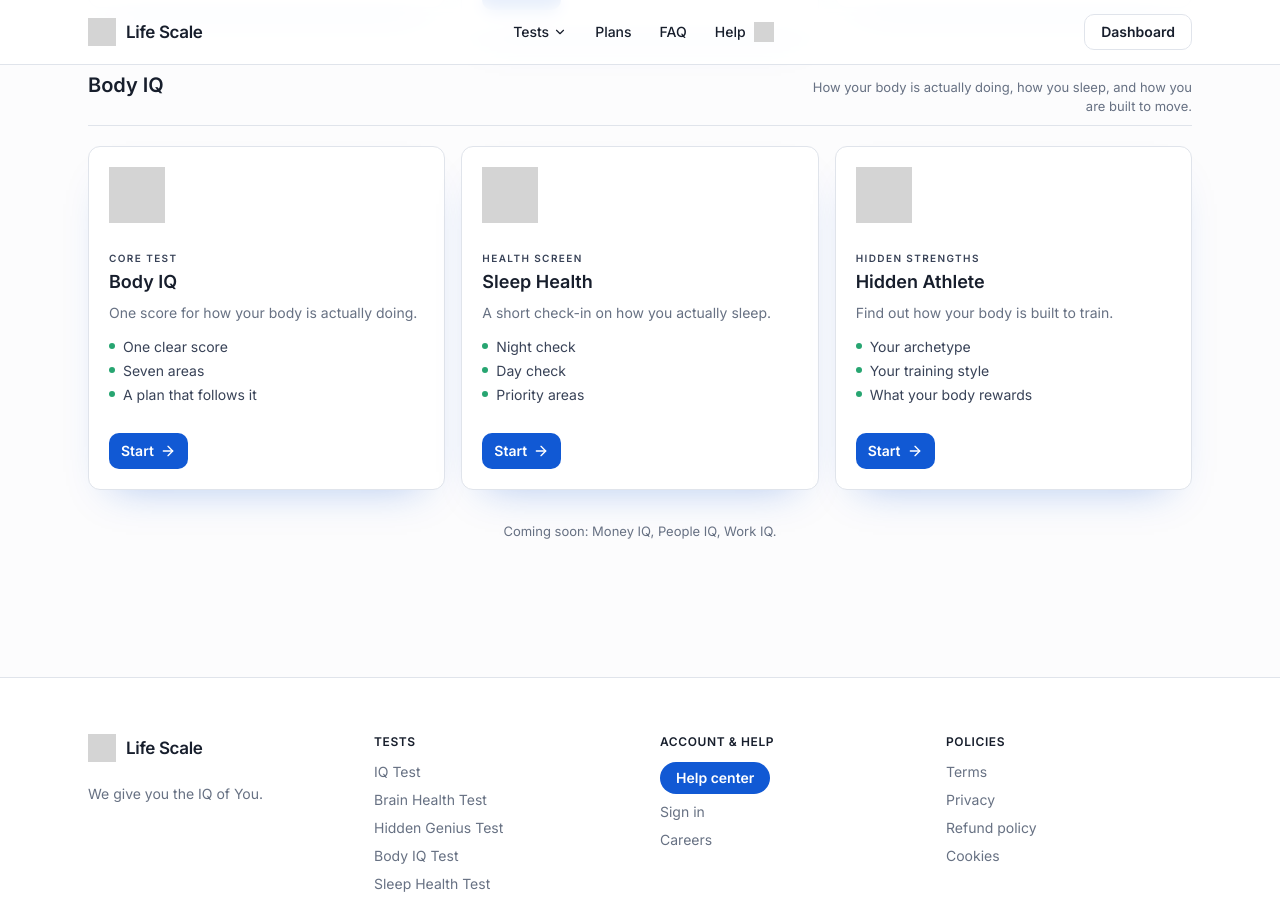
purchase paths › sends a signed-in homepage buyer directly into the selected scale purchase path
The width and height of the screenshot is (1280, 900).
(page scrolled)
Expected: the element "Body IQ" is shown, [88, 146, 445, 490]
Click the button "Start" below "A plan that follows it": (148, 451) [109, 433, 188, 469]
(page scrolled)
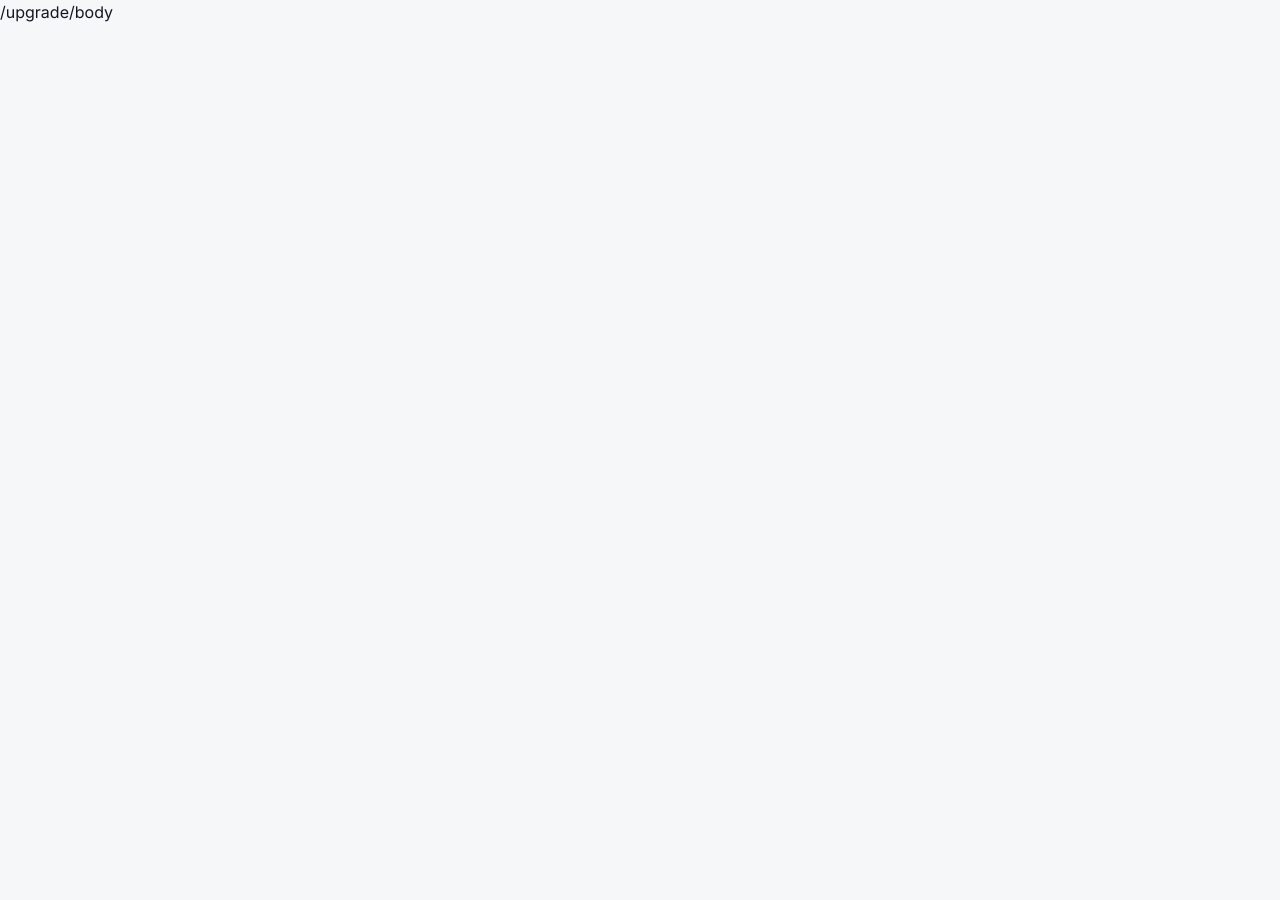
Expected: the text with test id "location" reads "/upgrade/body", [0, 2, 113, 22]
